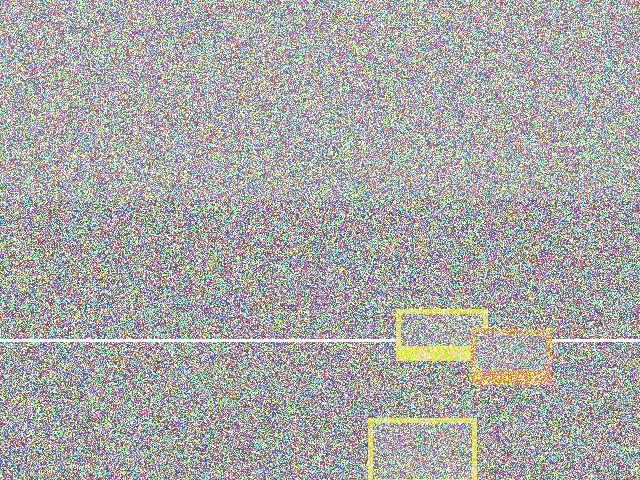car: (357, 139, 522, 197)
truck: (301, 210, 467, 270)
